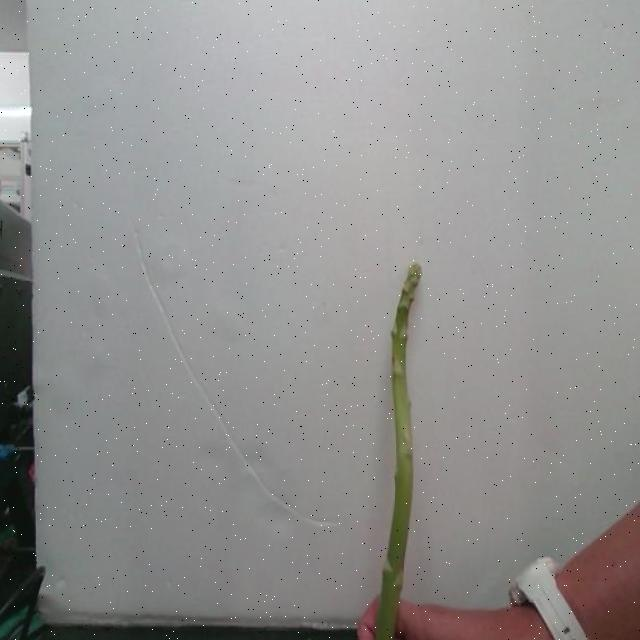aspargus: (370, 264, 422, 640)
